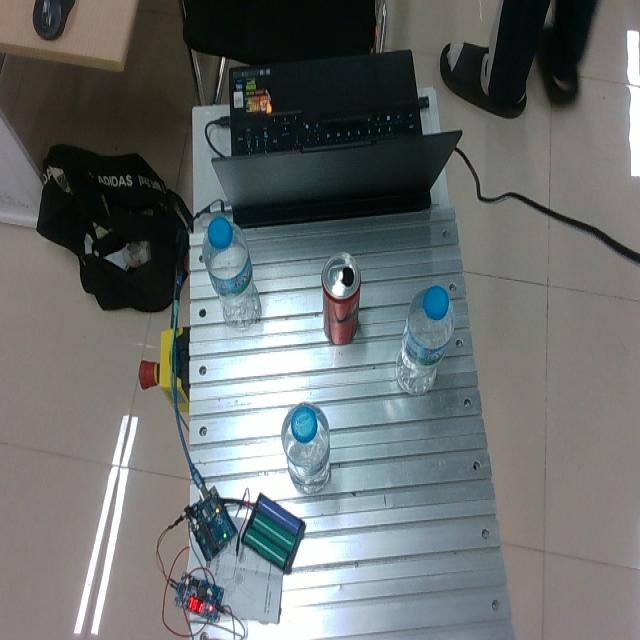coca: (320, 252, 362, 345)
lavie: (202, 215, 261, 329), (393, 288, 453, 395), (281, 401, 330, 492)
